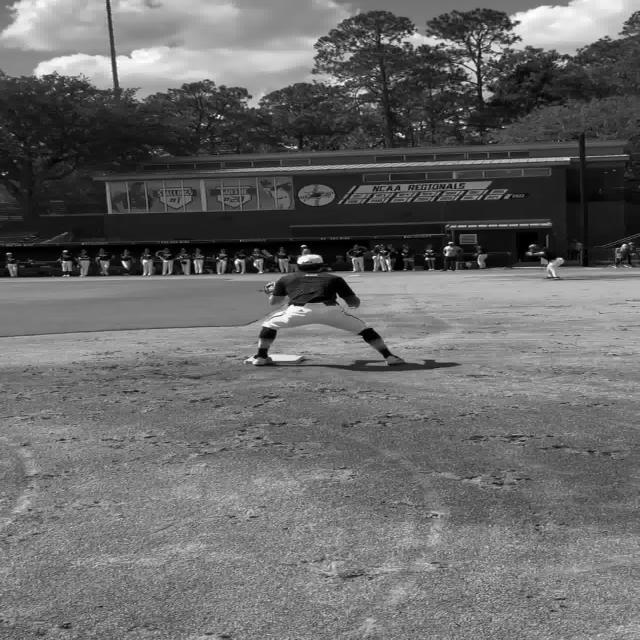base: (244, 354, 305, 365), (347, 274, 362, 278)
shoe: (251, 356, 273, 366), (385, 355, 405, 365)
